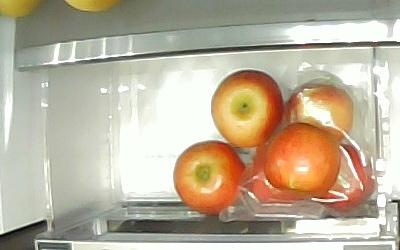apple: (209, 68, 283, 148), (262, 121, 341, 194), (172, 138, 245, 216)
apple_vinyl: (311, 140, 375, 212), (284, 80, 353, 141)
